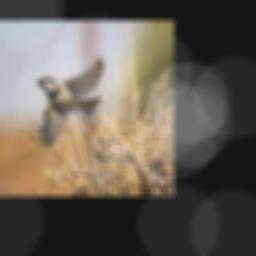Sparrow: (35, 56, 104, 146)
